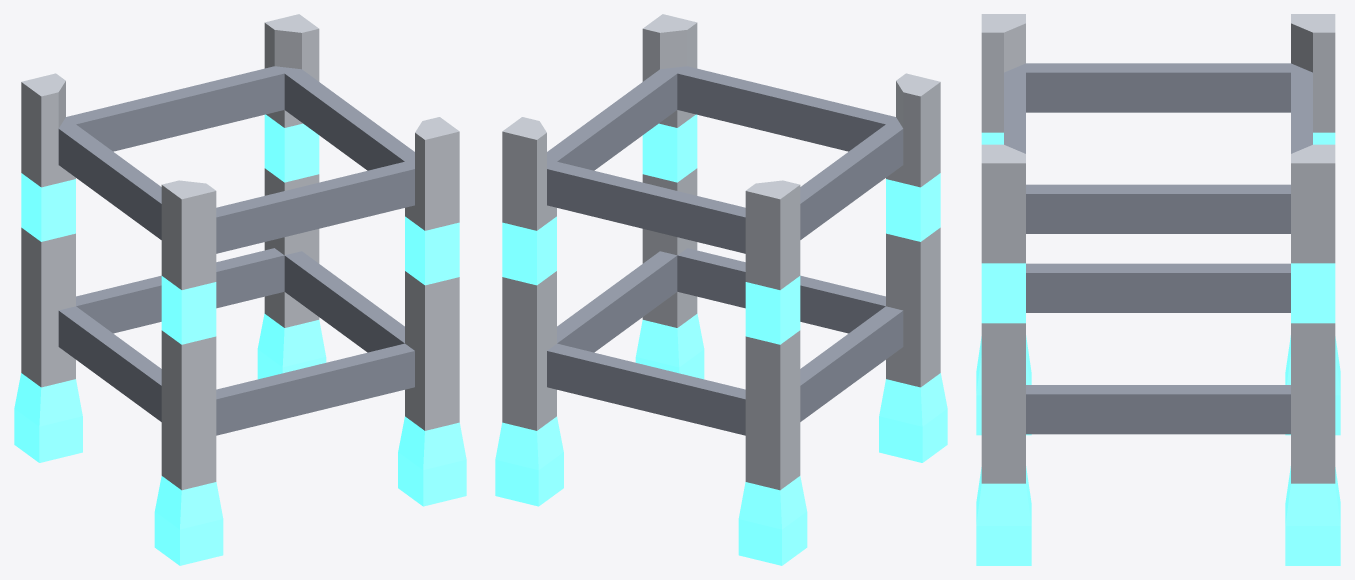
File: supports_high.glb
3 views of the same model, side by side, from view 1: azimuth 30°, elevation 25°; view 2: azimuth 150°, elevation 25°; view 3: azimuth 270°, elevation 25° (orthographic). The views are drawn at different scales.
Parts seen in each view (by area): view 1: supports_high; view 2: supports_high; view 3: supports_high.
Part boxes in pixels (left/top/right/bottom): supports_high: left=14, top=14, right=466, bottom=565; supports_high: left=495, top=14, right=947, bottom=565; supports_high: left=976, top=14, right=1340, bottom=565.
Bounding box in the file's own units: 0.825 × 1 × 0.825.
